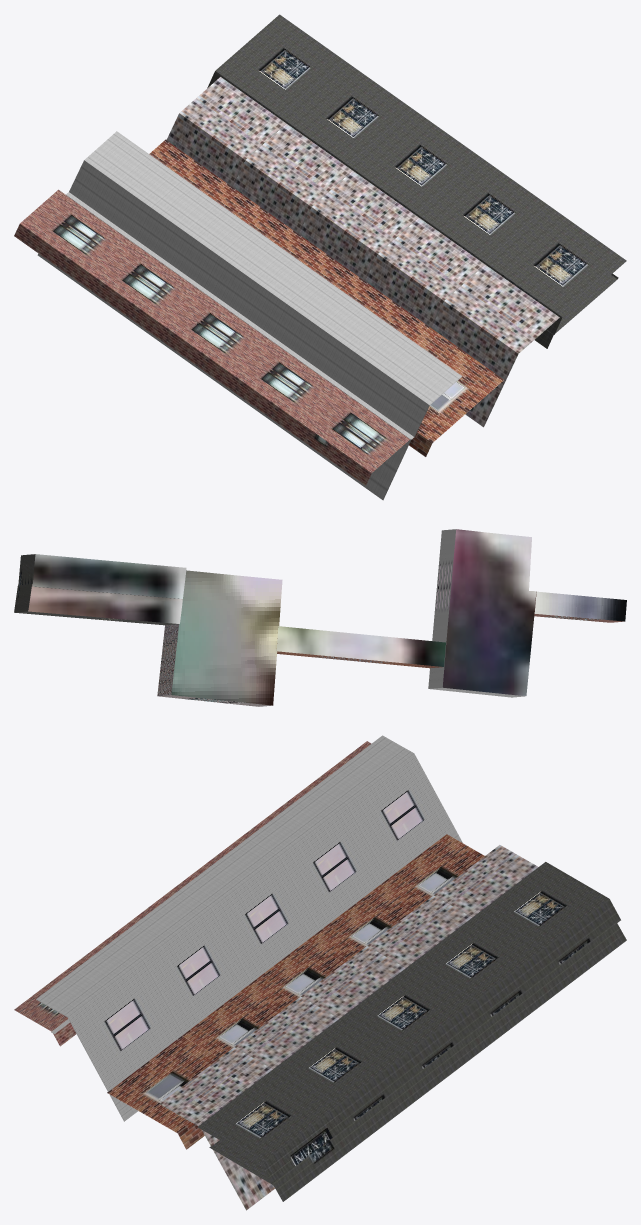
3 renders of one model, top to bottom at view 1: azimuth 30°, elevation 25°; view 2: azimuth 150°, elevation 25°; view 3: azimuth 270°, elevation 25°, orthographic. The views are drawn at different scales.
Size of the model in its own units: 22.78 by 11.19 by 20.84.
Materials: 20 (20 with a texture image).
